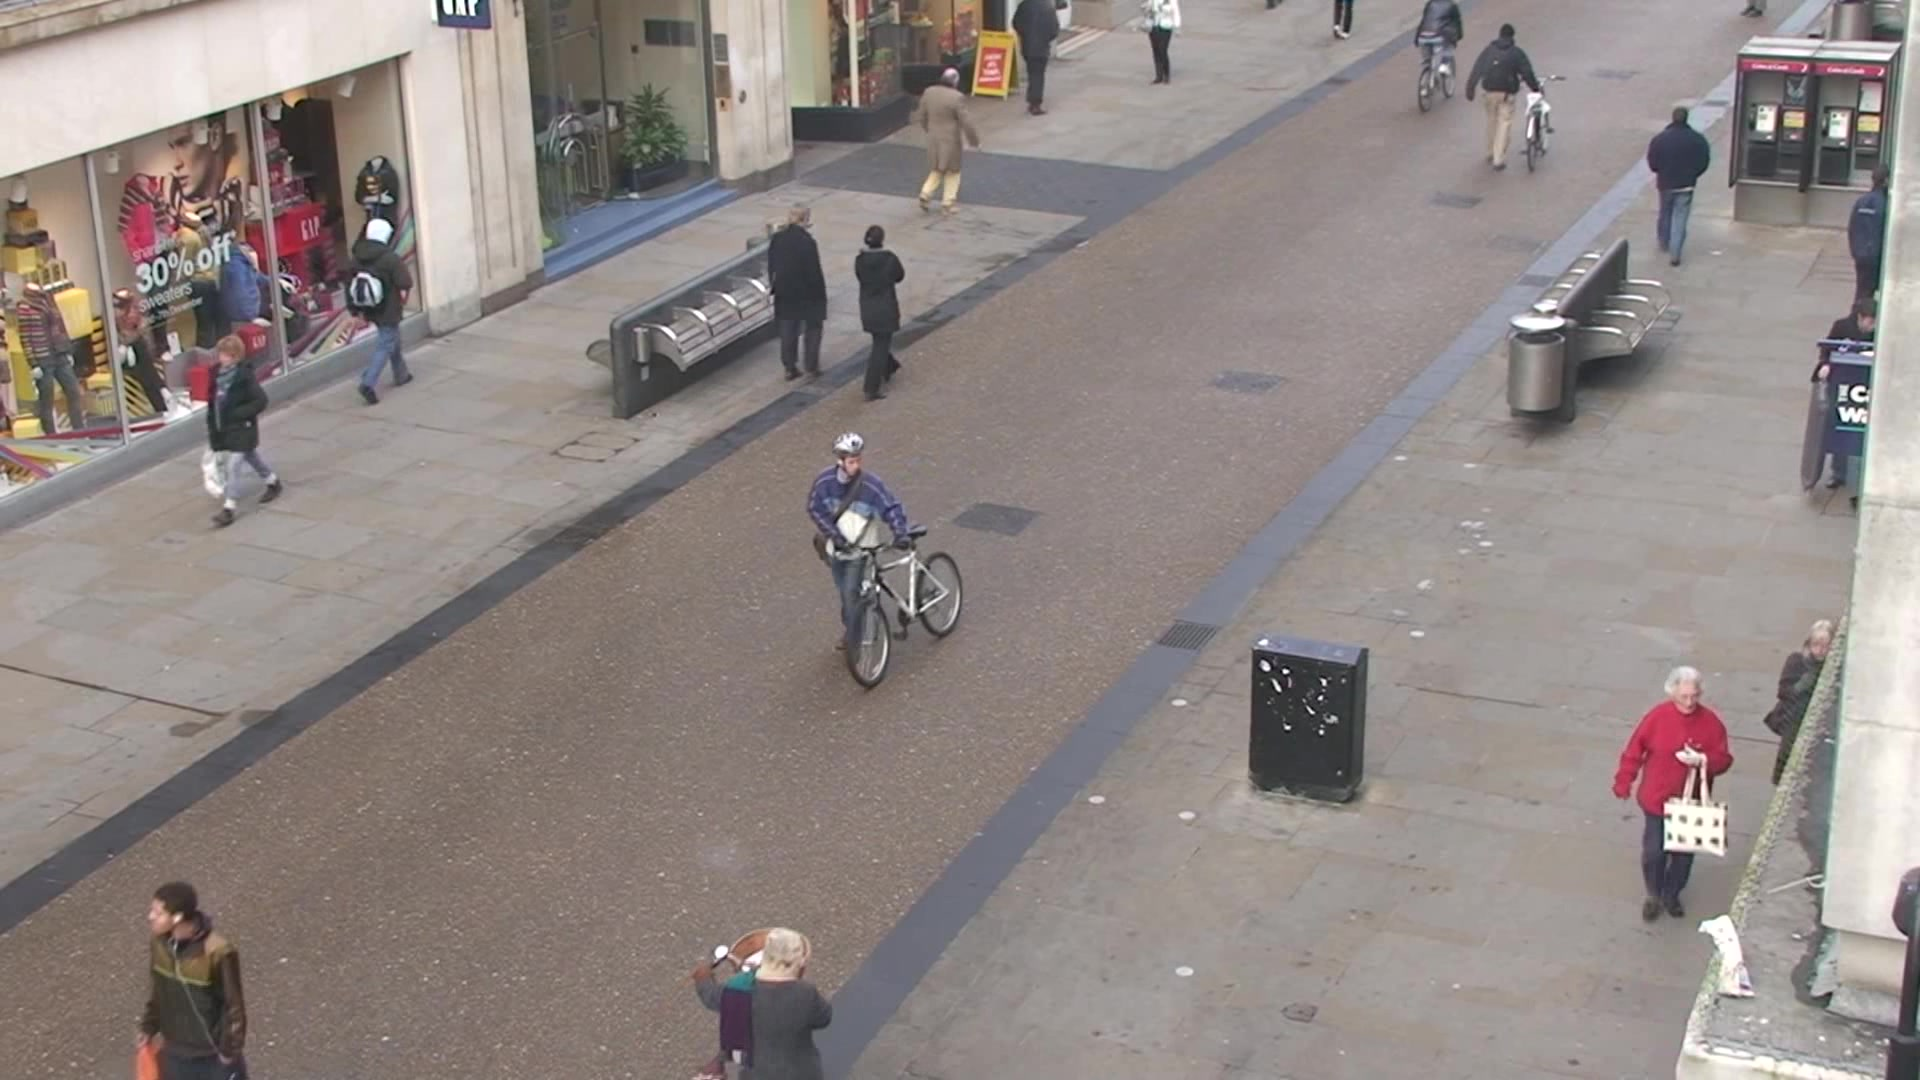person: (1611, 666, 1734, 924), (807, 433, 913, 661), (201, 333, 283, 529), (346, 220, 413, 404), (1466, 25, 1547, 176), (768, 204, 828, 383), (1647, 106, 1711, 269), (915, 70, 978, 212), (854, 227, 904, 404)
